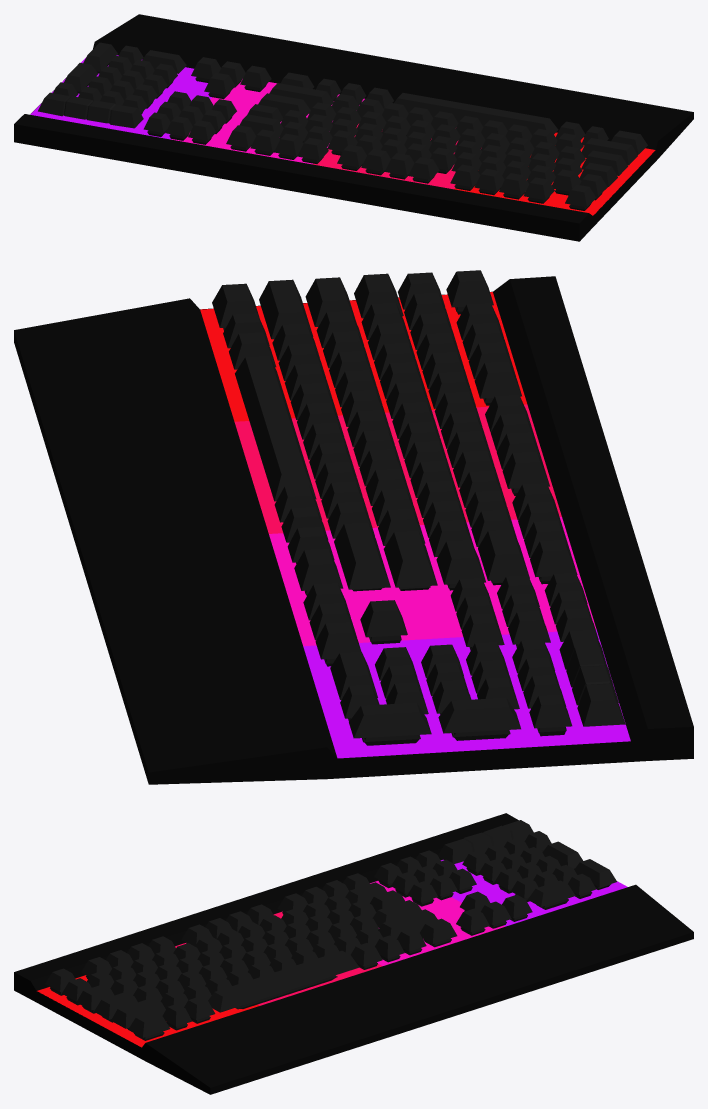
File: keyboard.glb
The picture shows the model from 3 angles, top to bottom: view 1: azimuth 30°, elevation 25°; view 2: azimuth 150°, elevation 25°; view 3: azimuth 270°, elevation 25°; orthographic projection. The views are drawn at different scales.
Parts seen in each view (by area): view 1: keyboard; view 2: keyboard; view 3: keyboard.
Boxes of the visible parts, <box> form: keyboard: <box>14,14,693,241</box>; keyboard: <box>14,270,693,784</box>; keyboard: <box>14,813,693,1094</box>.
Size of the model in its own units: 0.9479 by 0.0513 by 1.03.
